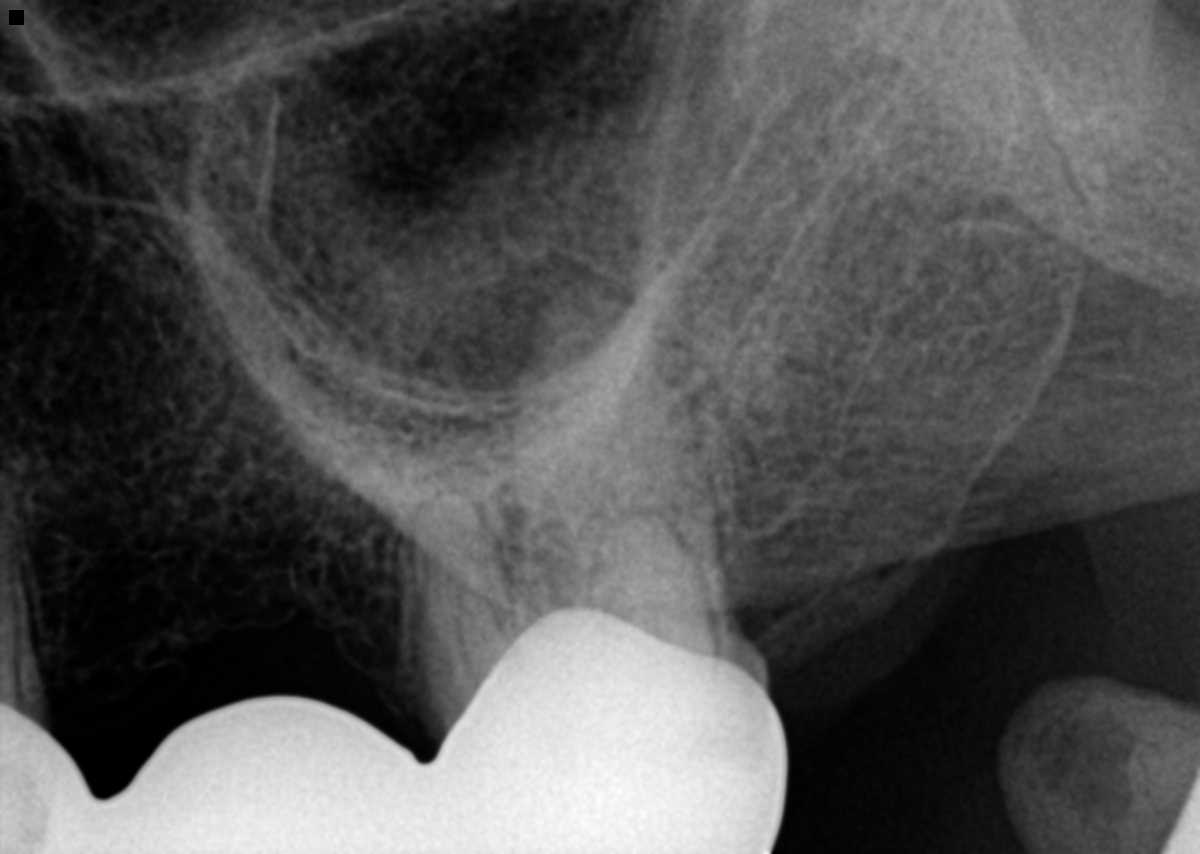Apical Lesion: (451, 246, 579, 414)
Distal Root: (584, 514, 721, 655)
Main Root: (0, 468, 33, 672)
Mesial Canal: (454, 567, 482, 690)
Mesial Root: (415, 489, 521, 733)
Palatal Root: (509, 277, 735, 650)
